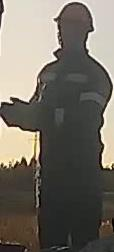gloves: (0, 96, 46, 131)
helmet: (53, 2, 96, 37)
vest: (32, 54, 112, 162)
